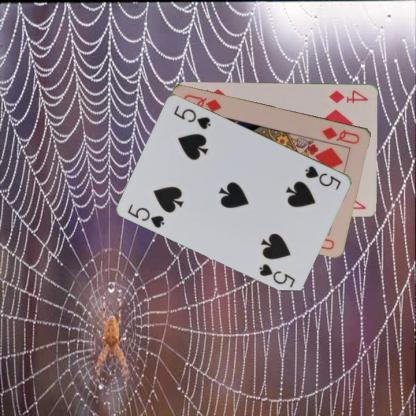4d: (326, 87, 370, 105)
5s: (302, 163, 342, 191), (125, 202, 166, 229)
Qd: (320, 123, 361, 145)
